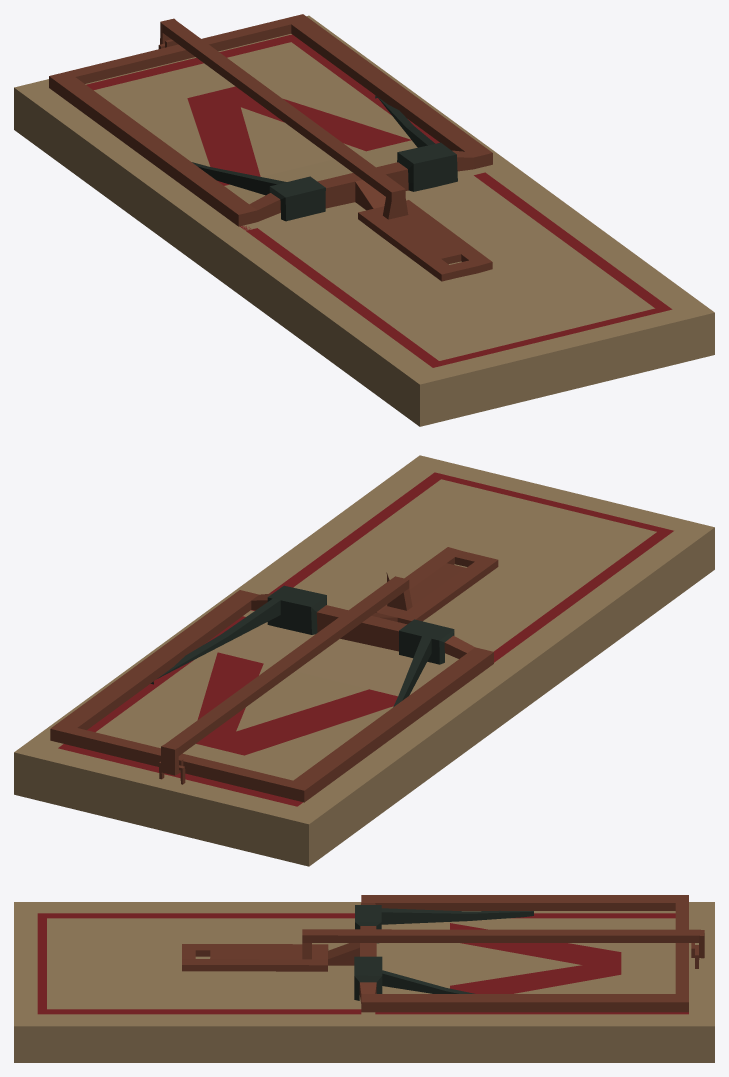
Rendered from ratTrap.fbx.
3 renders of one model, top to bottom at view 1: azimuth 30°, elevation 25°; view 2: azimuth 150°, elevation 25°; view 3: azimuth 270°, elevation 25°, orthographic. The views are drawn at different scales.
Parts seen in each view (by area): view 1: trap; view 2: trap; view 3: trap.
Part boxes in pixels (x1,y1,x2,y2): trap: (14, 14, 714, 426); trap: (14, 455, 714, 866); trap: (14, 895, 714, 1062).
Bounding box in the file's own units: 303 × 84.1 × 723.
